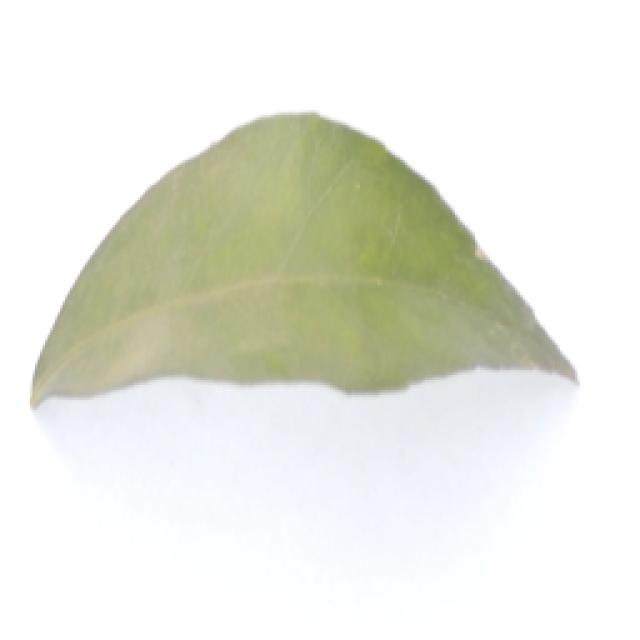healthy: (24, 107, 584, 419)
